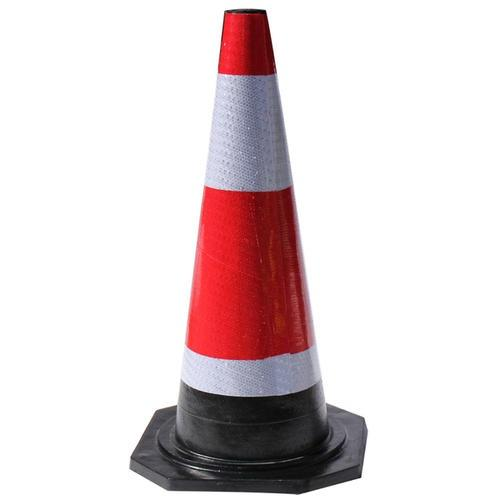cone_barrel: (155, 24, 346, 475)
